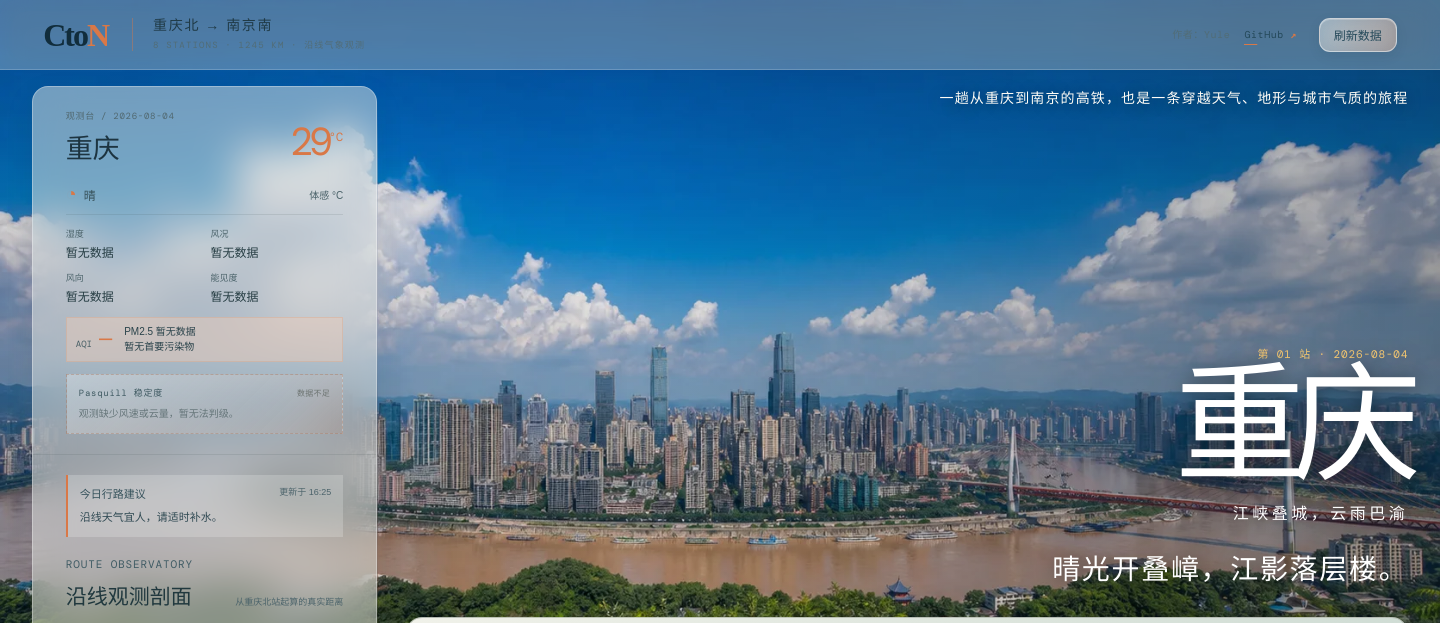
Test: 核心观测交互 › 建议读取失败时保留原建议并显示错误
Step 1. Click the button with class "refresh-button" → (1358, 34), box [1319, 18, 1397, 52]
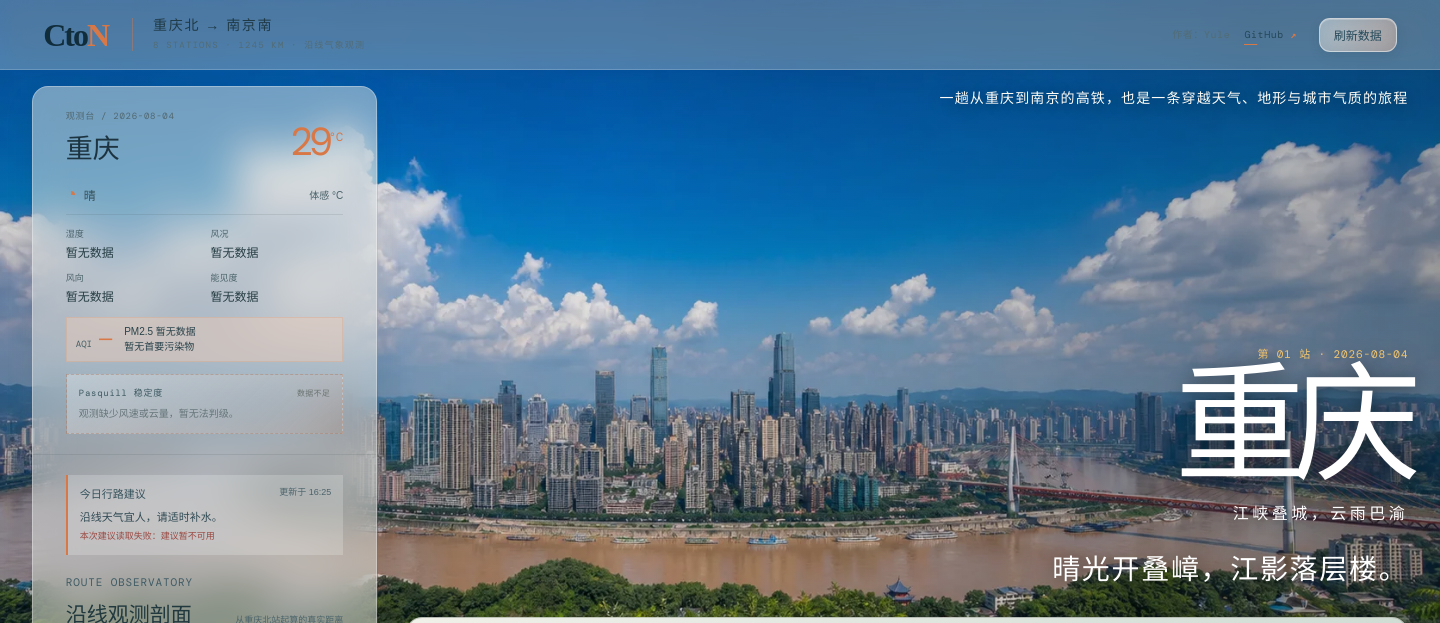
Expected: the element with class "travel-advice" shows "沿线天气宜人，请适时补水。", [80, 510, 223, 522]
Now the text with class "advice-error" shows "建议暂不可用", box [80, 531, 215, 541]
